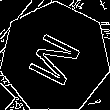M_SE: (23, 26, 87, 90)
